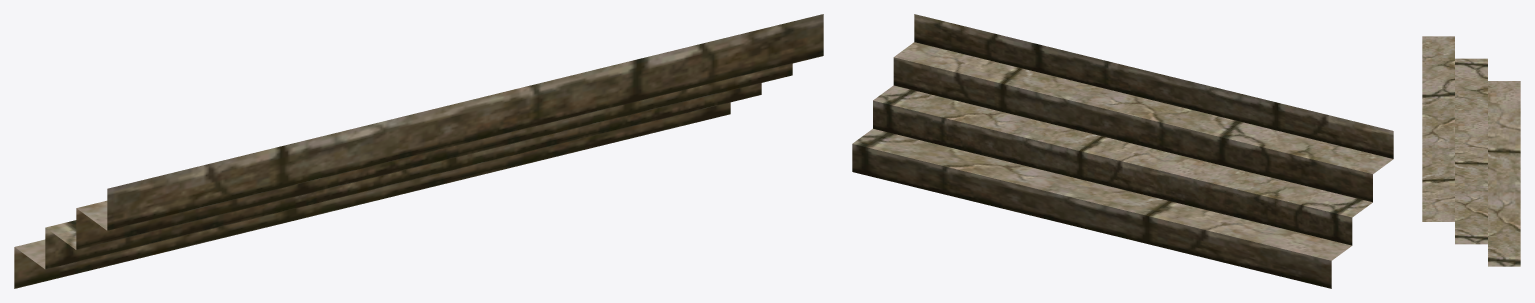
The model's file is OVERHILL_A_01_OBJECT204.fbx.
3 renders of one model, left to right at view 1: azimuth 30°, elevation 25°; view 2: azimuth 150°, elevation 25°; view 3: azimuth 270°, elevation 25°, orthographic. The views are drawn at different scales.
Visible parts, largest first — view 1: OVERHILL_A_01_OBJECT204; view 2: OVERHILL_A_01_OBJECT204; view 3: OVERHILL_A_01_OBJECT204.
Boxes of the visible parts, x1,y1,x2,y2 form: OVERHILL_A_01_OBJECT204: (14,14,823,288); OVERHILL_A_01_OBJECT204: (852,14,1393,288); OVERHILL_A_01_OBJECT204: (1422,36,1520,266).
Size of the model in its own units: 53507 by 12000 by 12000.
1 material, 1 textured.
